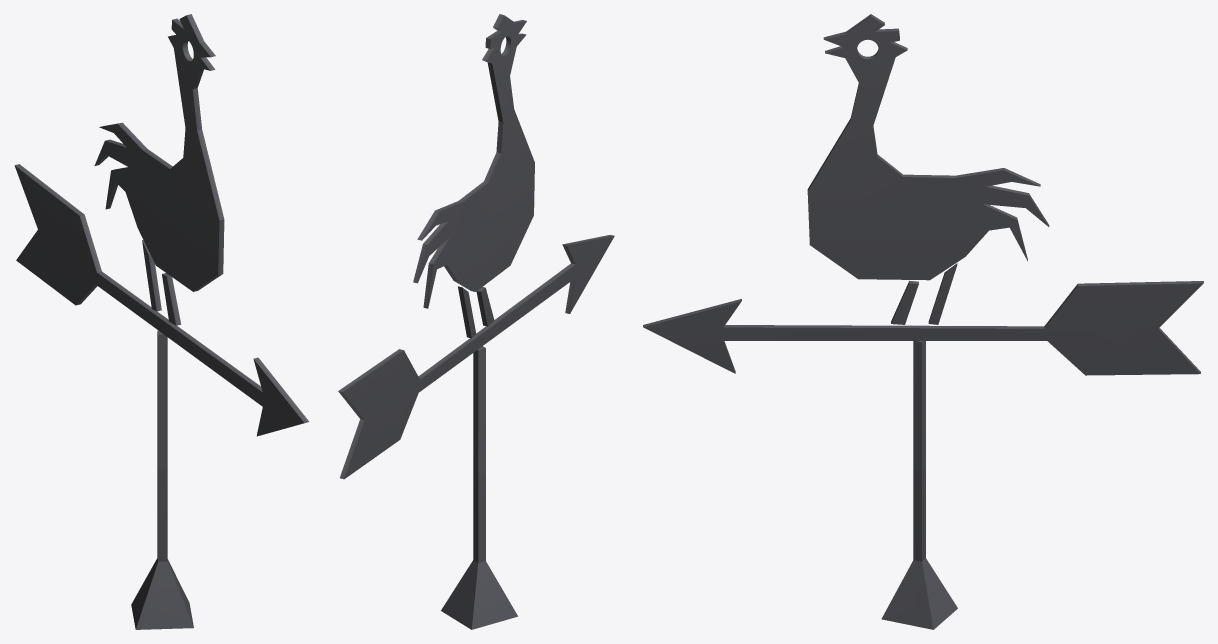
Rendered from vane_stick.glb.
3 renders of one model, left to right at view 1: azimuth 30°, elevation 25°; view 2: azimuth 150°, elevation 25°; view 3: azimuth 270°, elevation 25°, orthographic. The views are drawn at different scales.
Parts seen in each view (by area): view 1: Box025_med_diffuse_0.001; view 2: Box025_med_diffuse_0.001; view 3: Box025_med_diffuse_0.001.
Part boxes in pixels (bbox=[...]): Box025_med_diffuse_0.001: bbox=[14, 14, 309, 629]; Box025_med_diffuse_0.001: bbox=[338, 14, 614, 629]; Box025_med_diffuse_0.001: bbox=[643, 14, 1203, 629].
Size of the model in its own units: 0.1938 by 1.68 by 1.43.
1 material, 1 textured.
